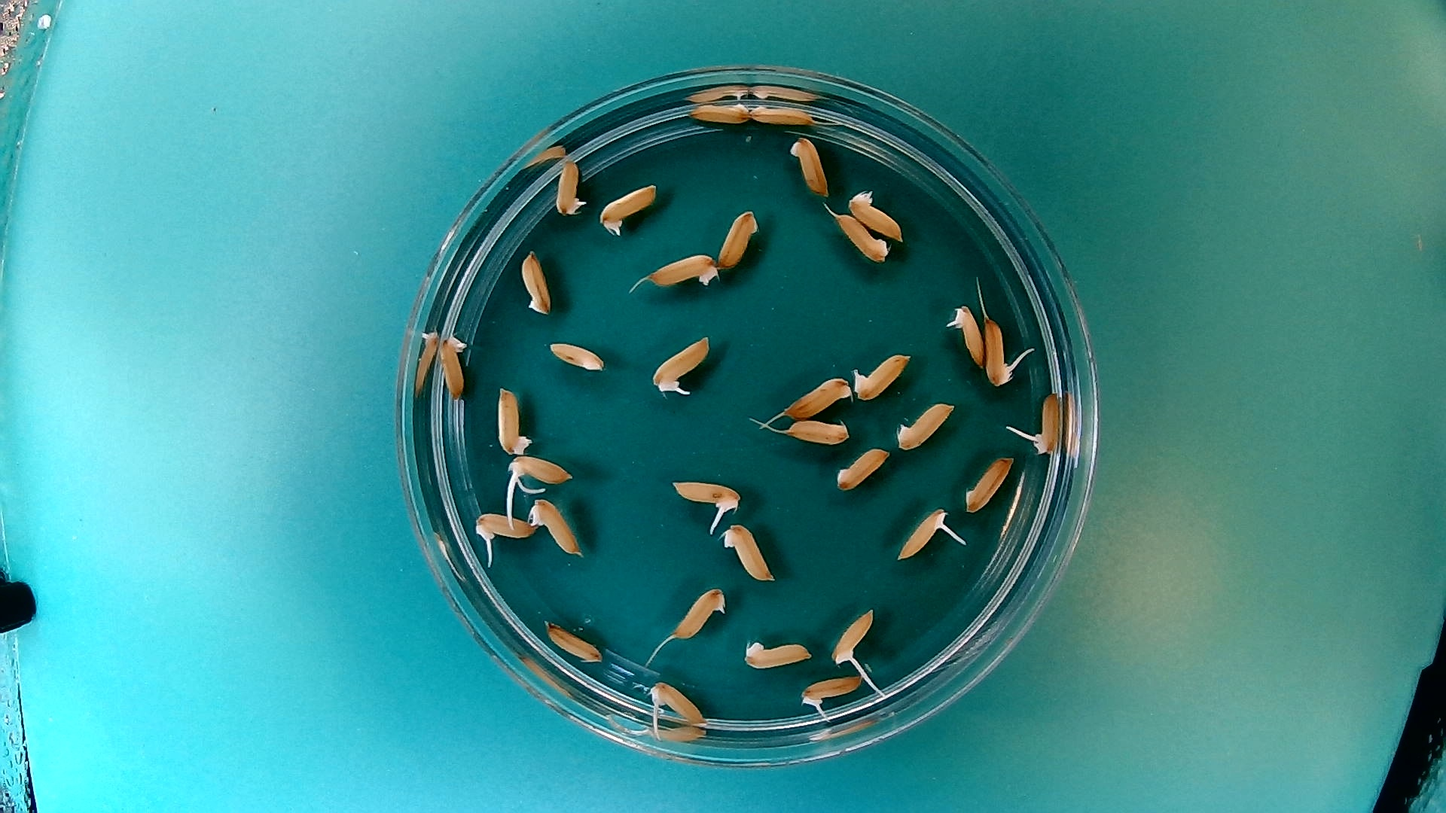no: (639, 247, 722, 291), (527, 495, 584, 557), (782, 371, 854, 419), (894, 397, 958, 451), (721, 521, 776, 583), (831, 210, 892, 265), (714, 203, 762, 270), (962, 452, 1013, 513), (493, 382, 532, 457), (543, 618, 604, 665), (786, 134, 831, 197), (834, 444, 892, 492), (740, 636, 813, 671), (520, 247, 554, 317), (438, 330, 471, 400), (546, 337, 606, 375), (784, 419, 851, 449), (746, 101, 819, 128), (685, 97, 752, 124)
yes: (650, 333, 713, 395), (596, 179, 659, 236), (850, 346, 913, 402), (671, 583, 730, 642), (846, 189, 907, 241), (892, 504, 947, 560), (649, 680, 712, 728), (830, 607, 877, 668), (944, 302, 987, 368), (1025, 385, 1064, 456), (798, 672, 864, 711), (504, 451, 575, 486), (472, 510, 536, 547), (676, 477, 743, 510), (554, 155, 587, 218), (984, 319, 1013, 388)
